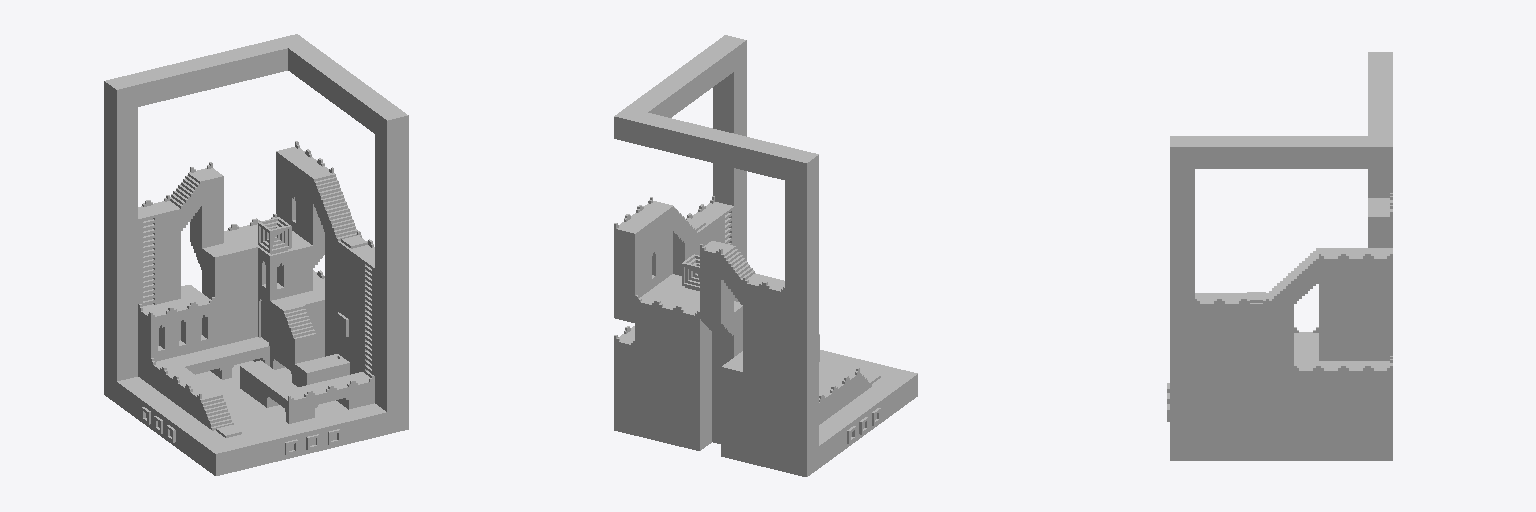
The model's file is Map01.obj.
3 views of the same model, side by side, from view 1: azimuth 30°, elevation 25°; view 2: azimuth 150°, elevation 25°; view 3: azimuth 270°, elevation 25° (orthographic).
Size of the model in its own units: 82 by 126 by 82.